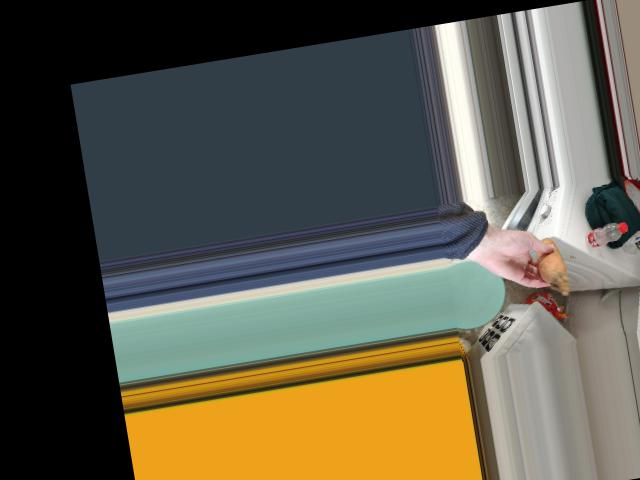sweet_potato: (536, 239, 568, 287)
